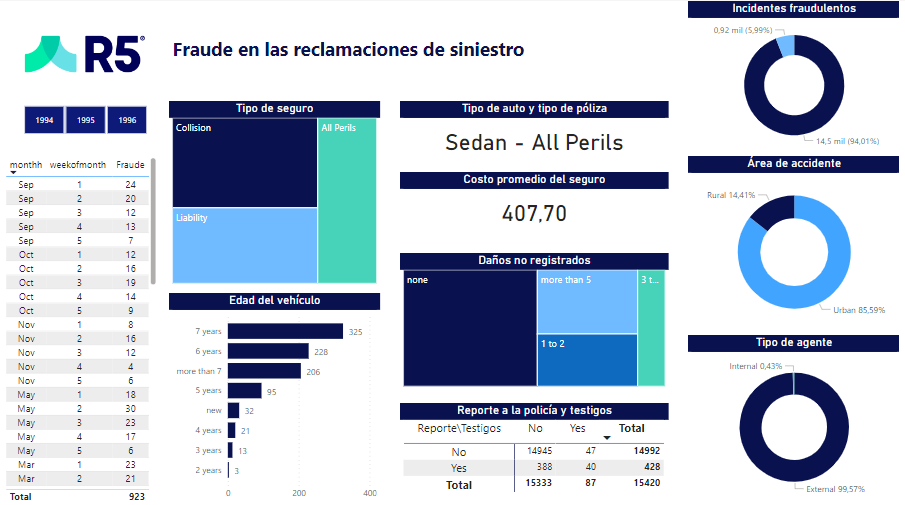

The page's visual inventory and layout, read from the dashboard file:
{"tool":"powerbi","page":{"name":"Fraudes","canvas":[1280,720],"ordinal":0},"visuals":[{"type":"tableEx","fields":{"Values":["public fraudes.monthh","public fraudes.weekofmonth","Sum(public fraudes.fraudfound_p)"]},"box":[0,218,225.4,502],"z":0},{"type":"donutChart","title":"Incidentes fraudulentos","fields":{"Category":["public fraudes.fraudfound_p"],"Y":["CountNonNull(public fraudes.fraudfound_p)"]},"box":[977.6,0,302.9,221],"z":1000},{"type":"donutChart","title":"Tipo de agente","fields":{"Category":["public fraudes.agenttype"],"Y":["Divide(Sum(public fraudes.fraudfound_p), ScopedEval(Sum(public fraudes.fraudfound_p), []))"]},"box":[977.6,475.6,302.9,244.4],"z":2000},{"type":"barChart","title":"Edad del vehículo","fields":{"Category":["public fraudes.ageofvehicle"],"Y":["Sum(public fraudes.fraudfound_p)"]},"box":[238.5,415.6,301.5,304.4],"z":3000},{"type":"card","title":"Tipo de auto y tipo de póliza","fields":{"Values":["Min(public fraudes.policytype)"]},"box":[567.8,142,383.4,92.2],"z":4000},{"type":"pivotTable","title":"Reporte a la policía y testigos","fields":{"Rows":["public fraudes.policereportfiled"],"Values":["CountNonNull(public fraudes.fraudfound_p)"],"Columns":["public fraudes.witnesspresent"]},"box":[567.8,573.7,383.4,146.3],"z":5000},{"type":"treemap","title":"Tipo de seguro","fields":{"Group":["public fraudes.basepolicy"],"Values":["CountNonNull(public fraudes.fraudfound_p)"]},"box":[238.5,142,301.5,264.9],"z":6000},{"type":"donutChart","title":"Área de accidente","fields":{"Category":["public fraudes.accidentarea"],"Y":["Sum(public fraudes.fraudfound_p)"]},"box":[977.6,221,302.9,254.6],"z":7000},{"type":"image","box":[23.4,0,190.2,150.7],"z":8000},{"type":"textbox","box":[238.5,43.9,632.2,64.4],"z":9000},{"type":"slicer","fields":{"Values":["public fraudes.yearr"]},"box":[5.9,142,225.4,54.1],"z":10000},{"type":"treemap","title":"Daños no registrados","fields":{"Group":["public fraudes.numberofsuppliments"],"Values":["Sum(public fraudes.fraudfound_p)"]},"box":[567.8,360,383.4,194.6],"z":12001},{"type":"card","title":"Costo promedio del seguro","fields":{"Values":["Avg(public fraudes.deductible)"]},"box":[567.8,244.4,383.4,92.2],"z":12002}]}

Visuals, with their boxes in screenshot pixels (x1, y1, x2, y2), scaled from the page's 1280x720 canvas onto the 905x505 screenshot:
tableEx - public fraudes.monthh x public fraudes.weekofmonth: <bbox>0, 153, 159, 504</bbox>
"Incidentes fraudulentos" donutChart: <bbox>691, 0, 904, 155</bbox>
"Tipo de agente" donutChart: <bbox>691, 334, 904, 504</bbox>
"Edad del vehículo" barChart: <bbox>169, 291, 382, 504</bbox>
"Tipo de auto y tipo de póliza" card: <bbox>401, 100, 673, 164</bbox>
"Reporte a la policía y testigos" pivotTable: <bbox>401, 402, 673, 504</bbox>
"Tipo de seguro" treemap: <bbox>169, 100, 382, 285</bbox>
"Área de accidente" donutChart: <bbox>691, 155, 904, 334</bbox>
image: <bbox>17, 0, 151, 106</bbox>
textbox: <bbox>169, 31, 616, 76</bbox>
slicer - public fraudes.yearr: <bbox>4, 100, 164, 138</bbox>
"Daños no registrados" treemap: <bbox>401, 252, 673, 389</bbox>
"Costo promedio del seguro" card: <bbox>401, 171, 673, 236</bbox>
